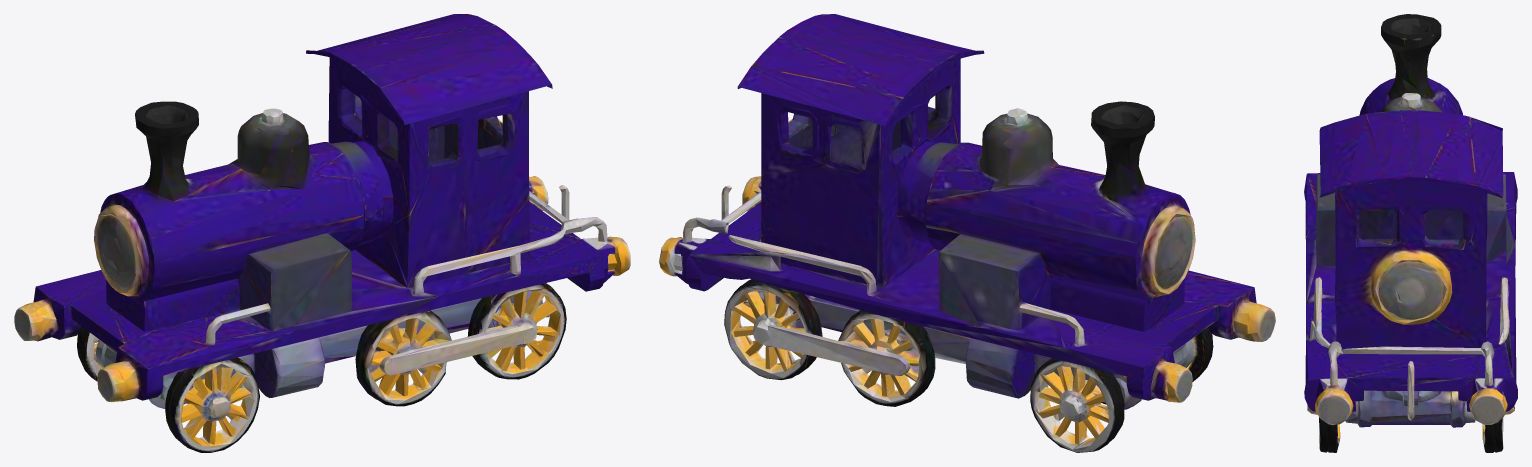
File: token_train.glb
3 views of the same model, side by side, from view 1: azimuth 30°, elevation 25°; view 2: azimuth 150°, elevation 25°; view 3: azimuth 270°, elevation 25° (orthographic). The views are drawn at different scales.
Size of the model in its own units: 1.9 by 1.07 by 0.7291.
1 material, 1 textured.
